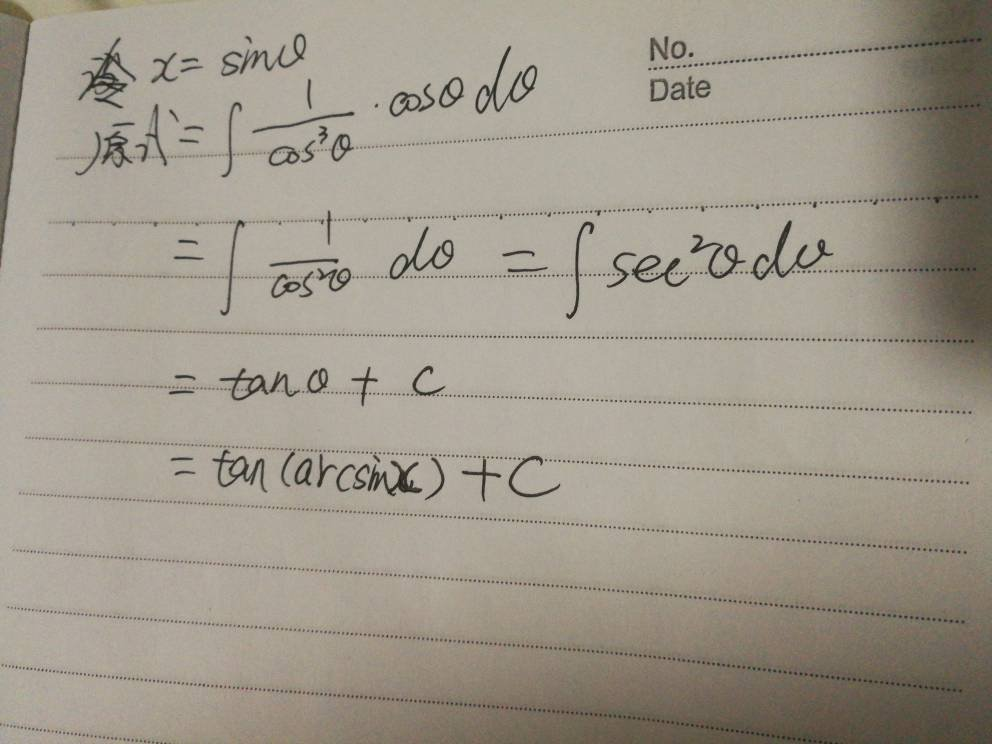cube: (314, 121, 330, 146)
division: (265, 255, 349, 269)
square: (689, 230, 718, 253)
